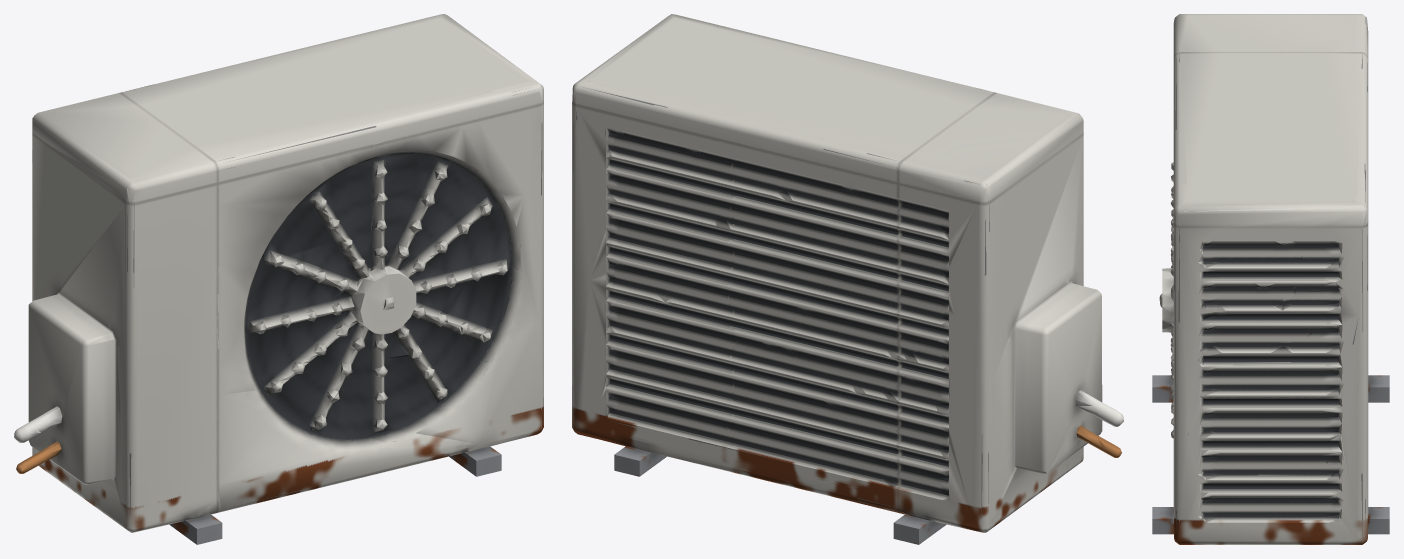
Rendered from cuc_nong_may_lanh_edits.glb.
3 views of the same model, side by side, from view 1: azimuth 30°, elevation 25°; view 2: azimuth 150°, elevation 25°; view 3: azimuth 270°, elevation 25° (orthographic). The views are drawn at different scales.
Parts seen in each view (by area): view 1: cuc_nong_may_lanh_edits; view 2: cuc_nong_may_lanh_edits; view 3: cuc_nong_may_lanh_edits.
Part boxes in pixels (box(x1,y1,x2,y2)): cuc_nong_may_lanh_edits: box(14, 14, 543, 544); cuc_nong_may_lanh_edits: box(572, 14, 1123, 544); cuc_nong_may_lanh_edits: box(1152, 14, 1389, 544).
Size of the model in its own units: 0.776 by 0.55 by 0.335.
1 material, 1 textured.
